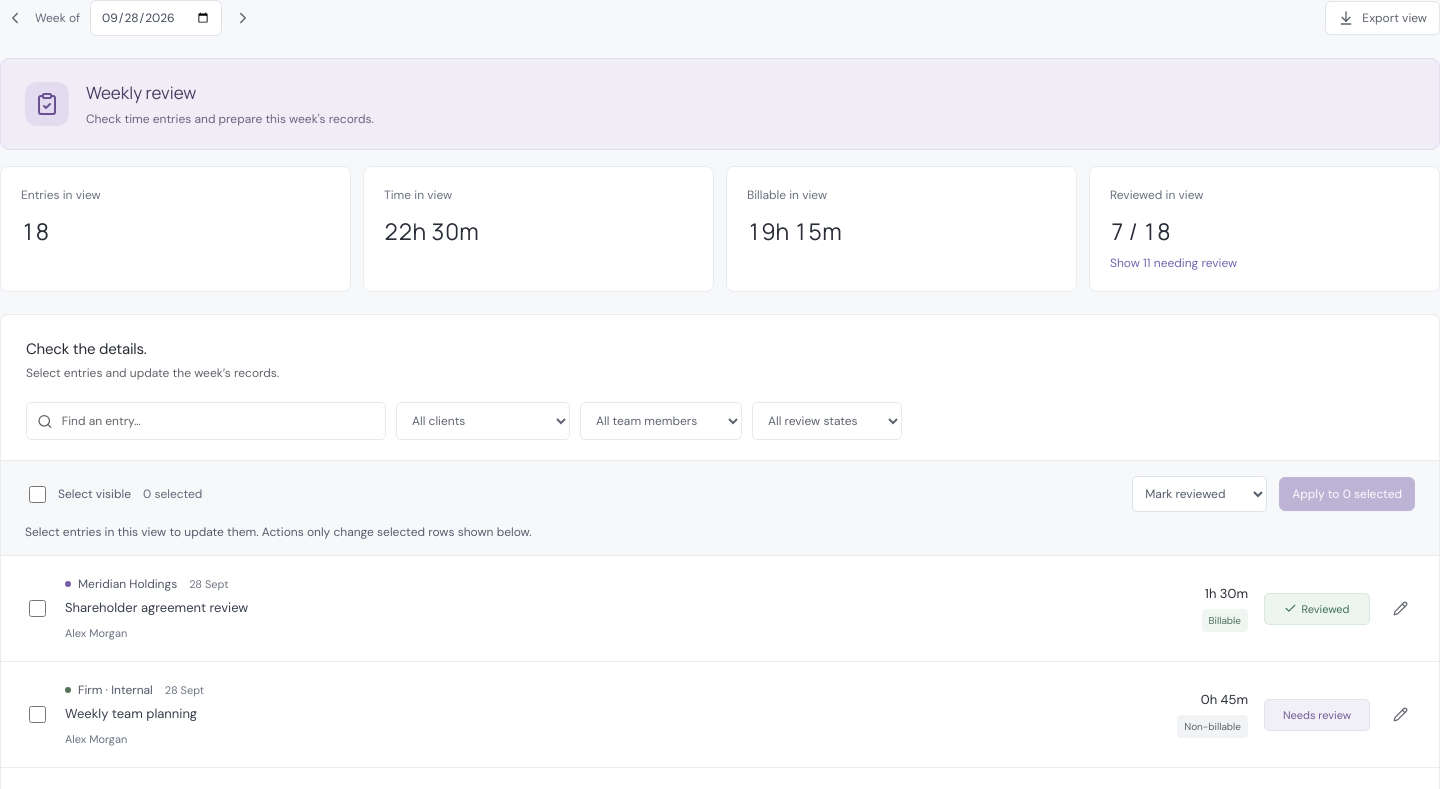
it: Needs-review shortcut › says when nothing is left to review in the view
This screenshot has width=1440, height=789.
Select "Oak & Stone" in the dropdown named "Review client" at [483, 421], box [396,402,570,440]
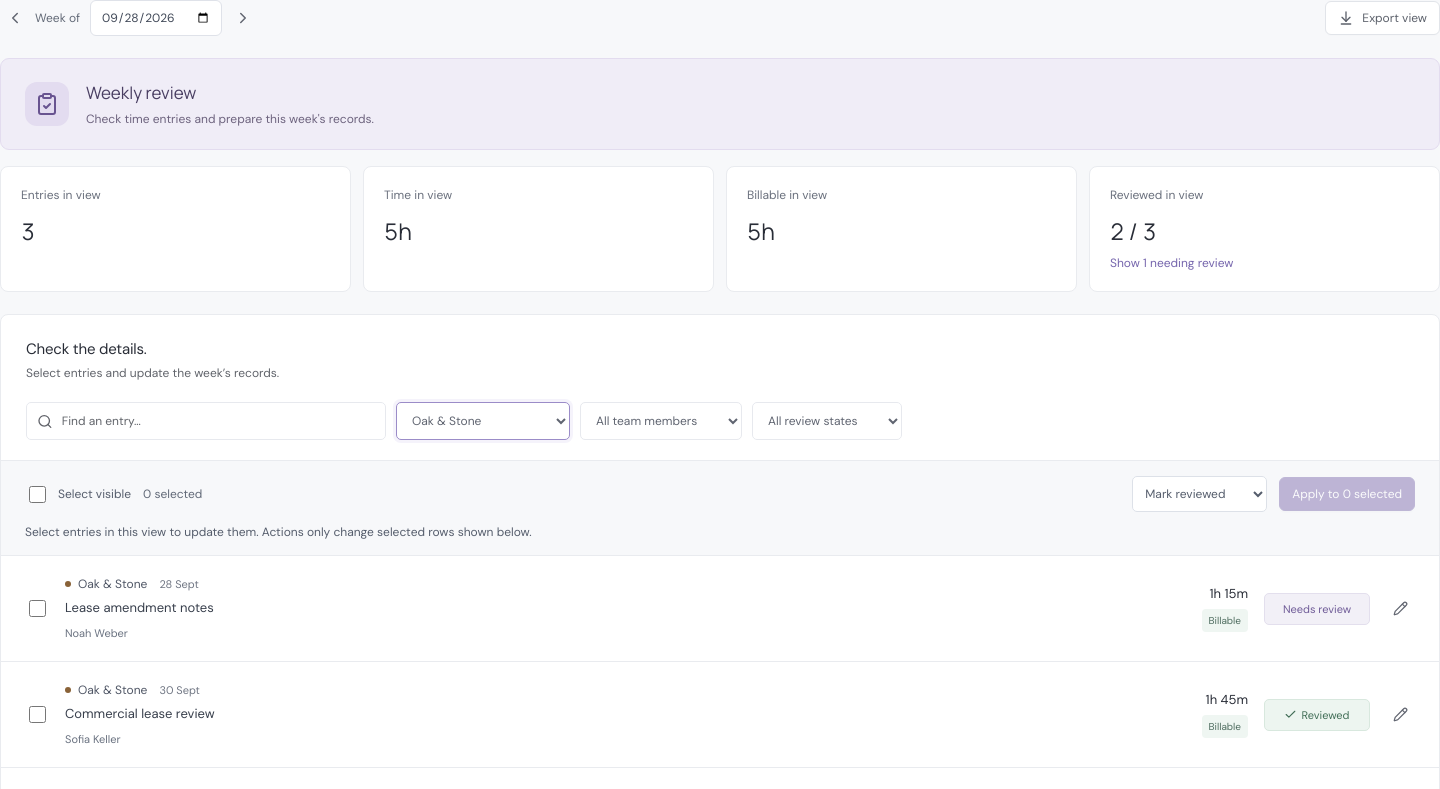
Click the checkbox named "Select visible entries" at [38, 494], box [29,486,46,502]
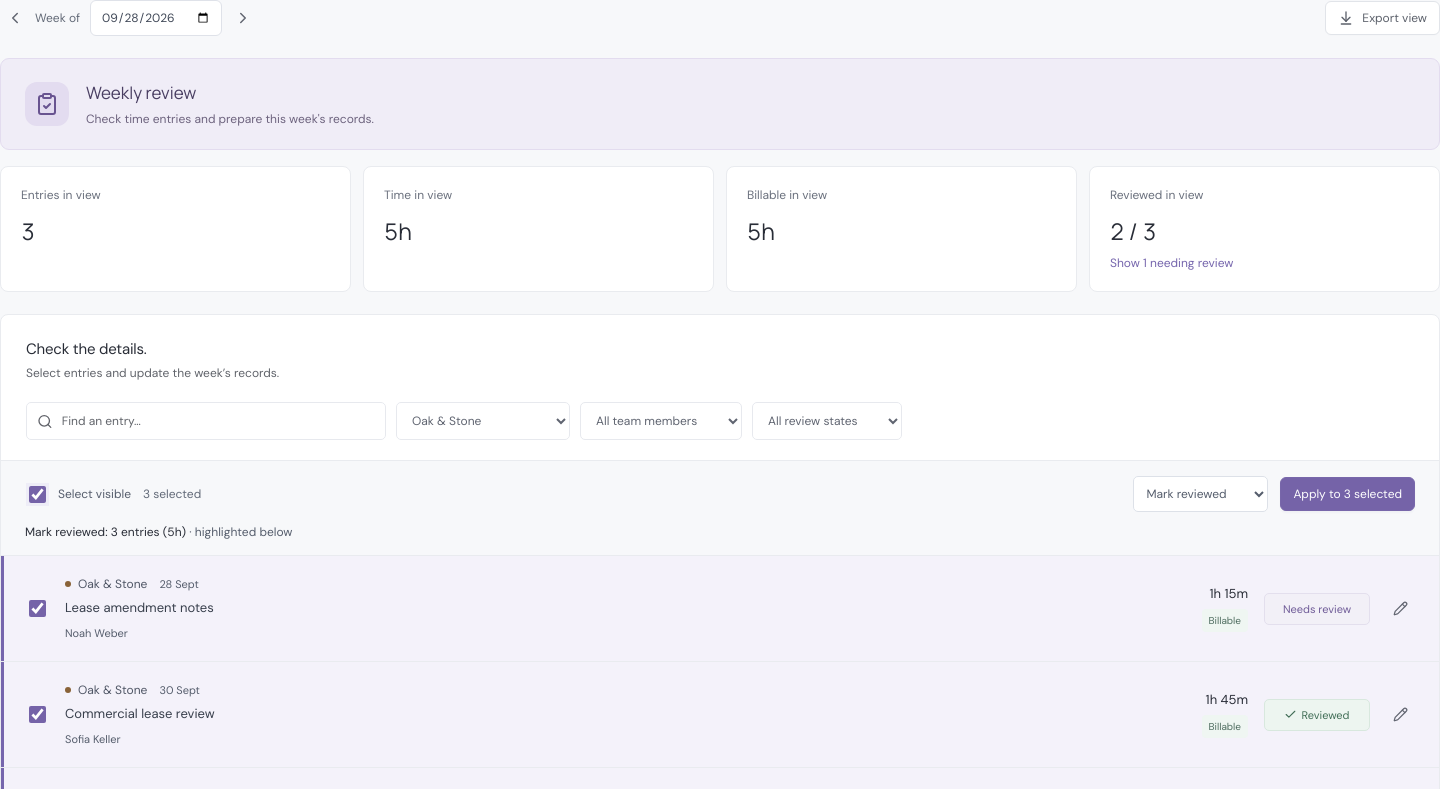
Click the button "Apply to 3 selected" at [1348, 494], box [1280,477,1415,511]
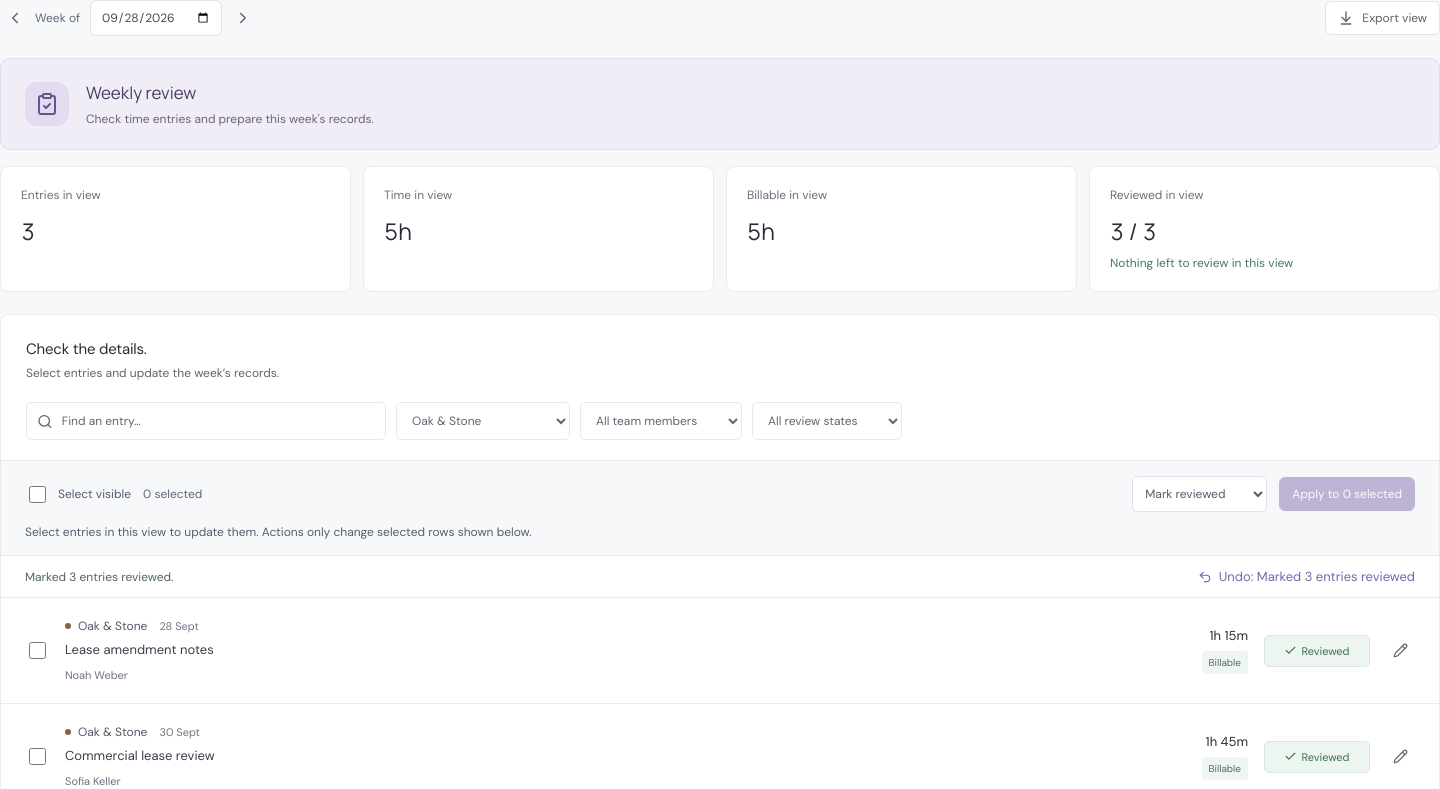
Expected: the text "Nothing left to review in this view" is shown, [1110,255,1293,271]
Expected: the button "needing review" is gone
